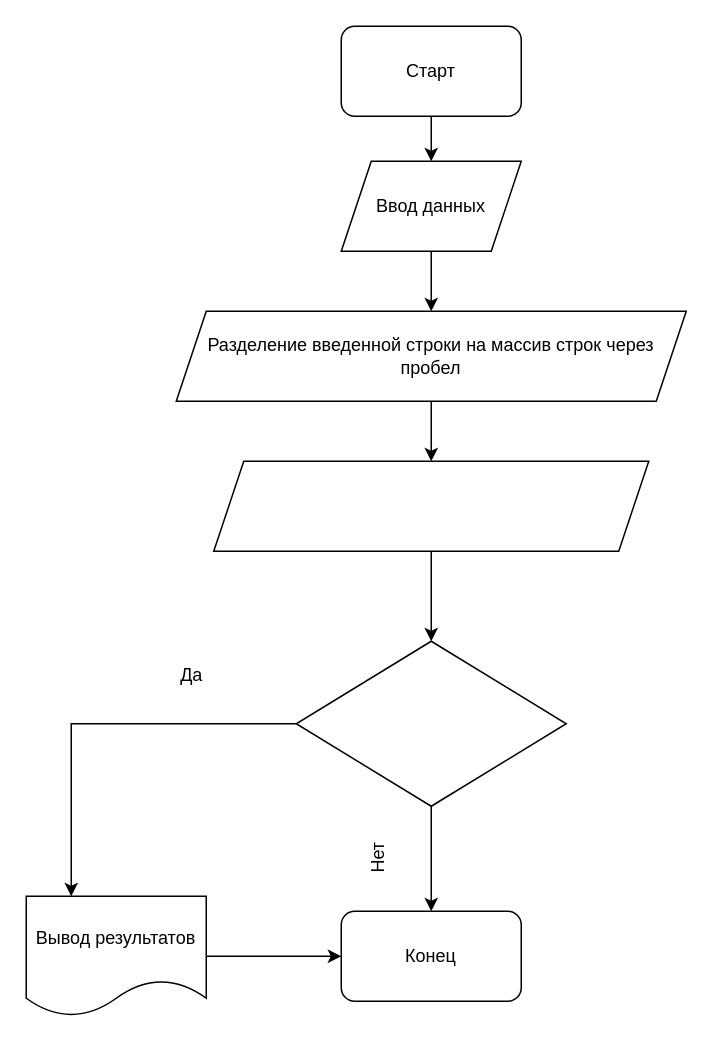
Image size: 713x1043. Some labels were removed from this diagram. The centre of each missing label's shape, as x and y in pixels:
"Длинна <=3" goes at [430,723].
"Фильтрация массива" goes at [430,505].
